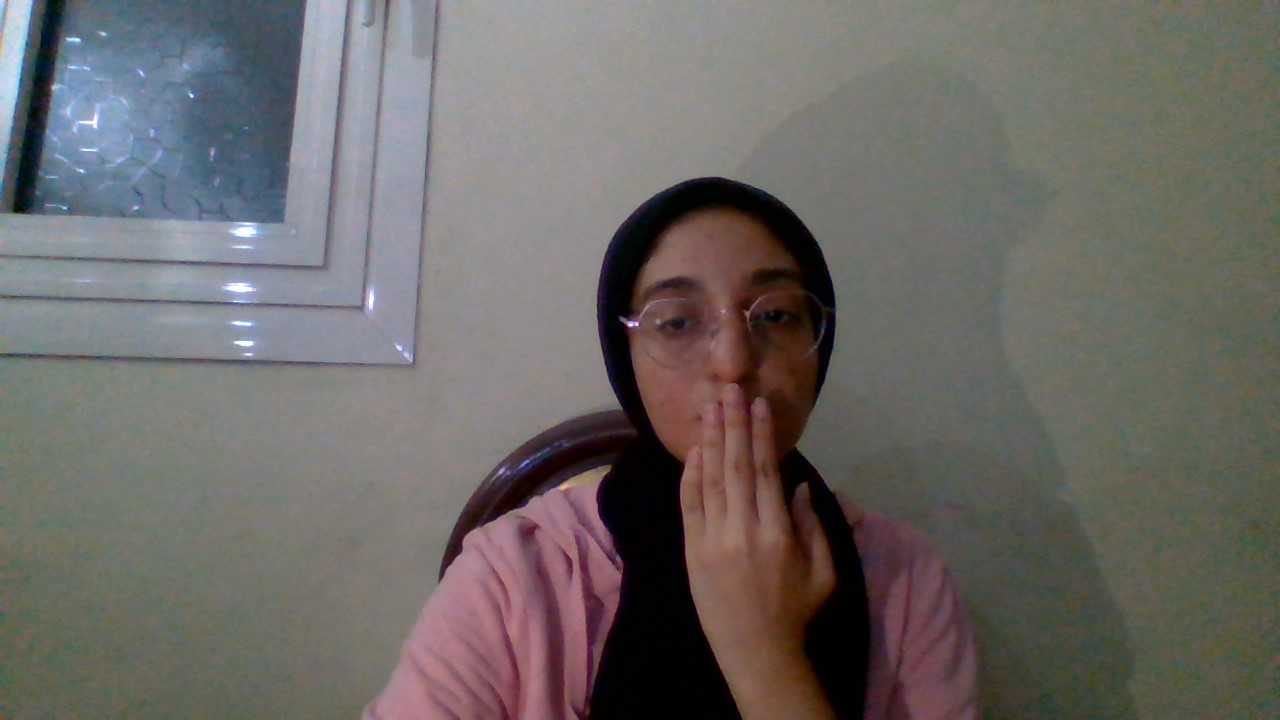thankyou: (596, 375, 929, 672)
